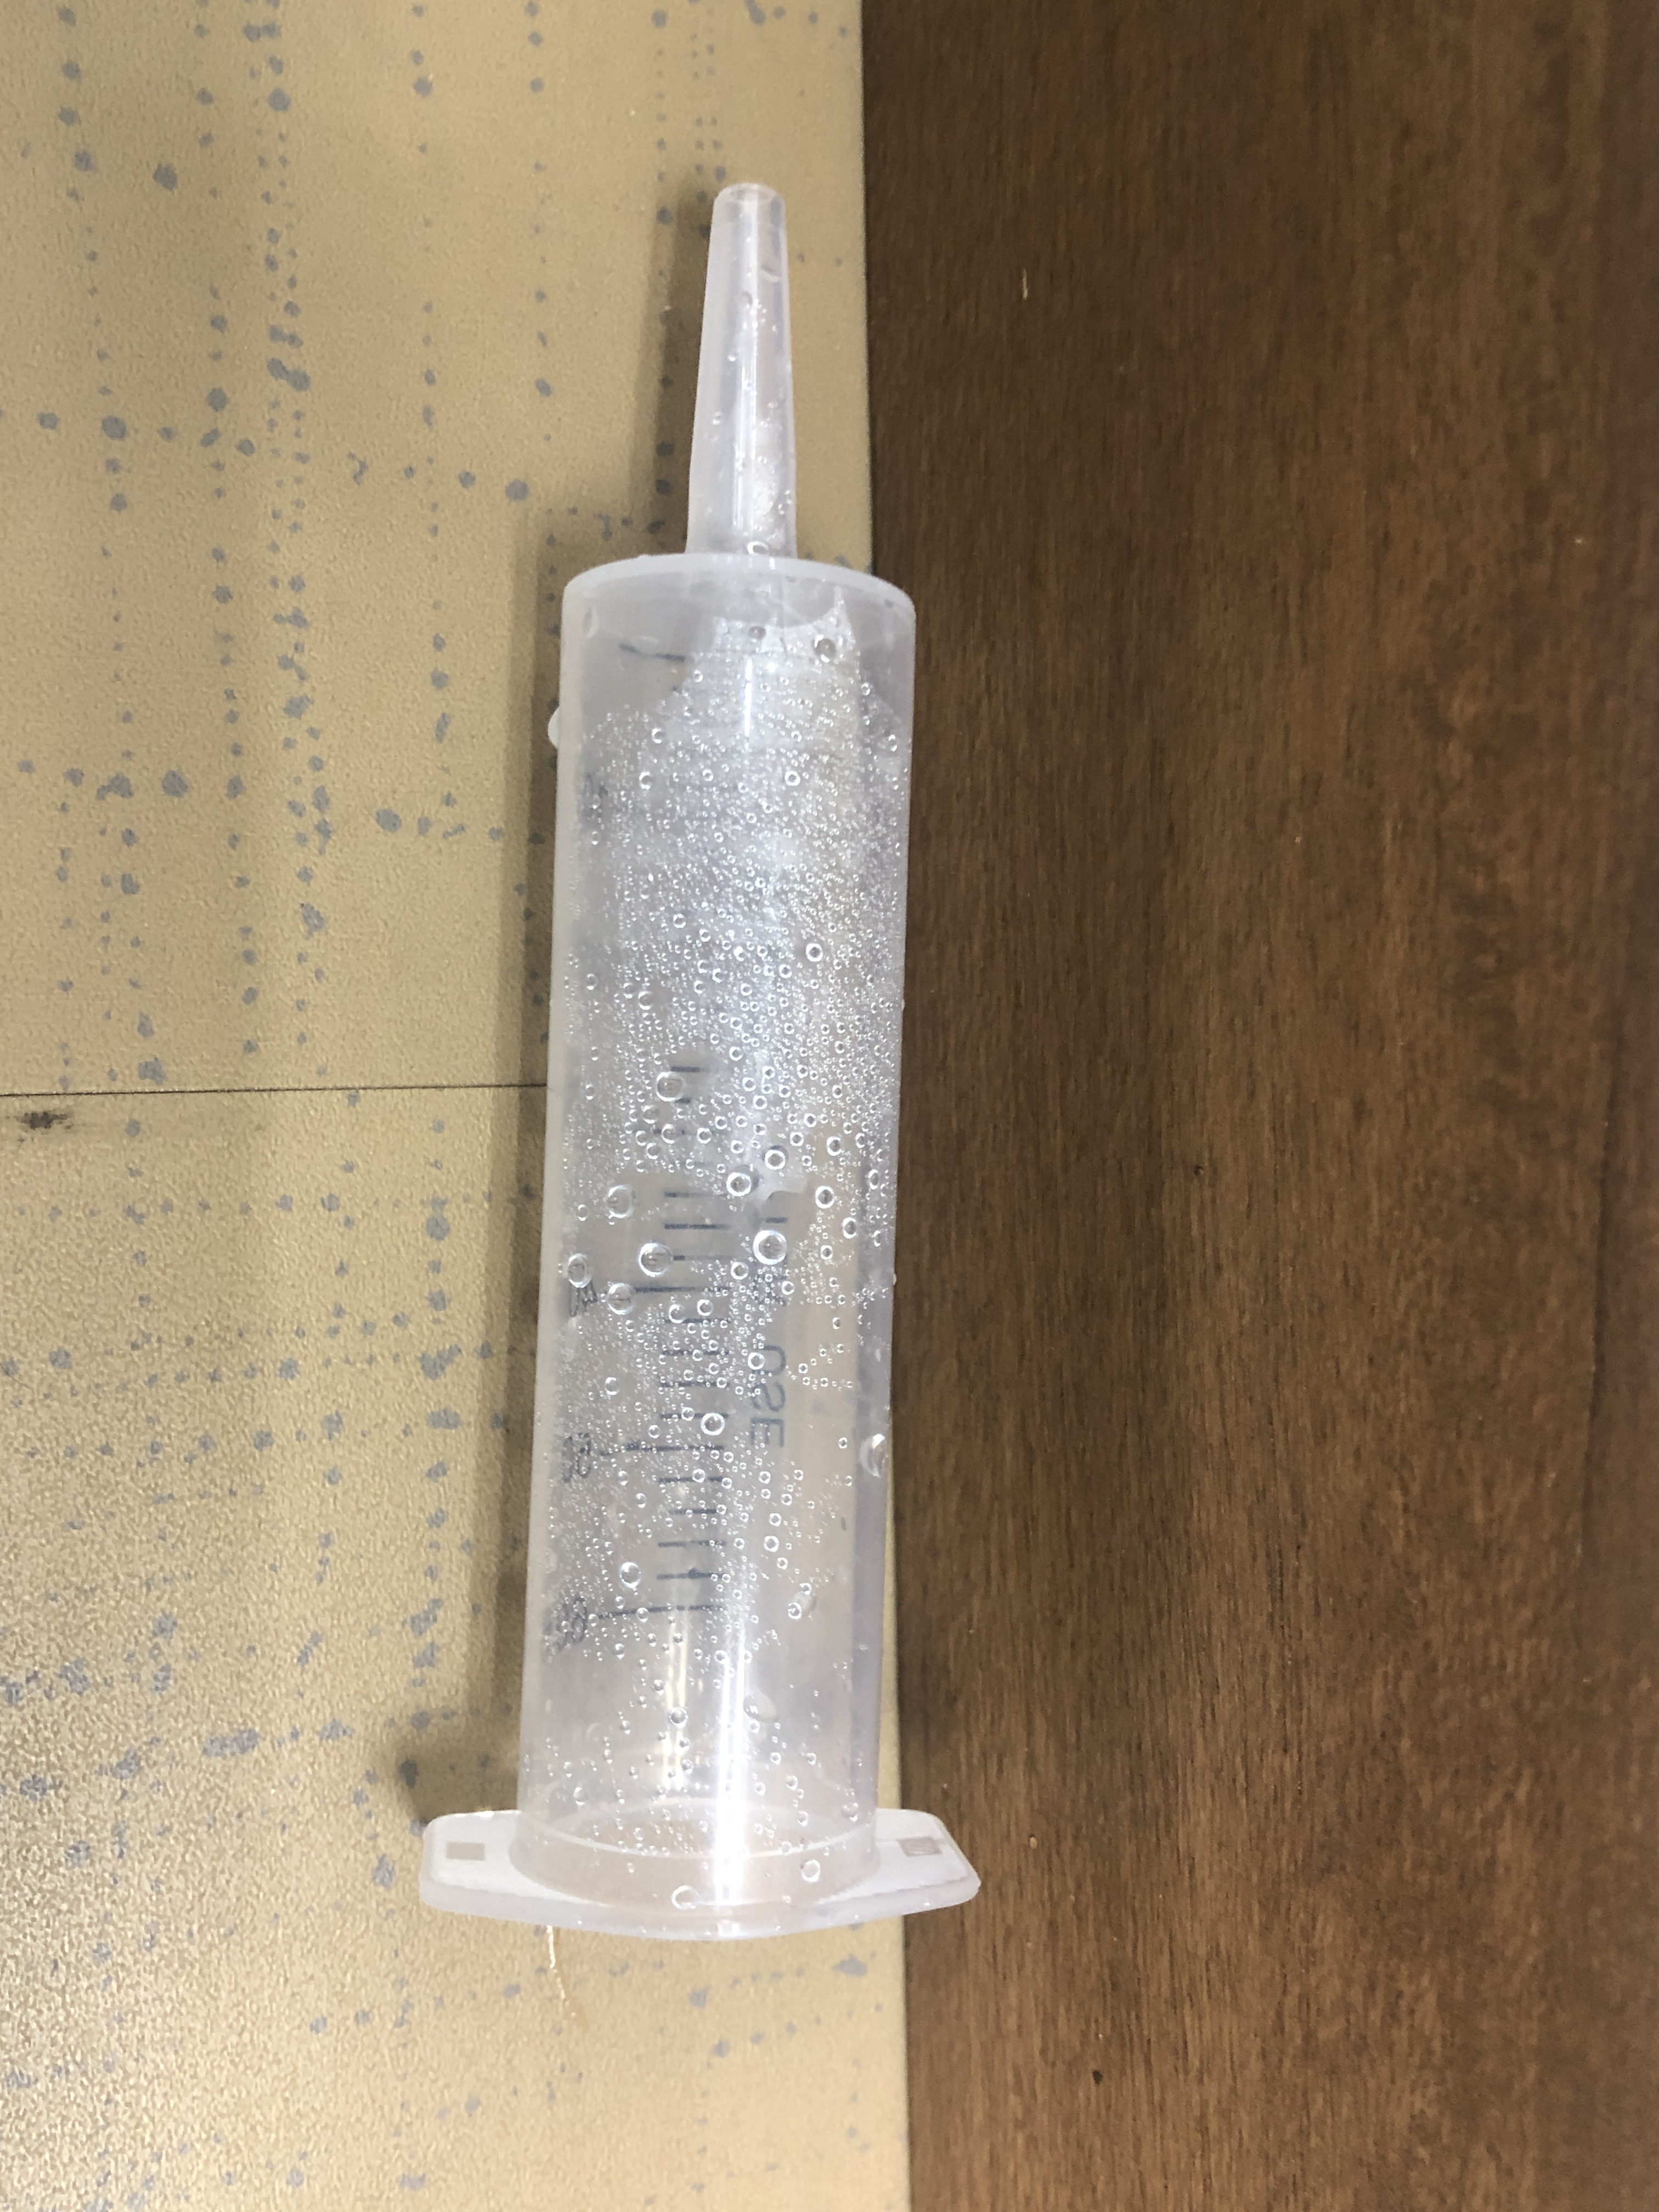syringe: (418, 174, 999, 1958)
